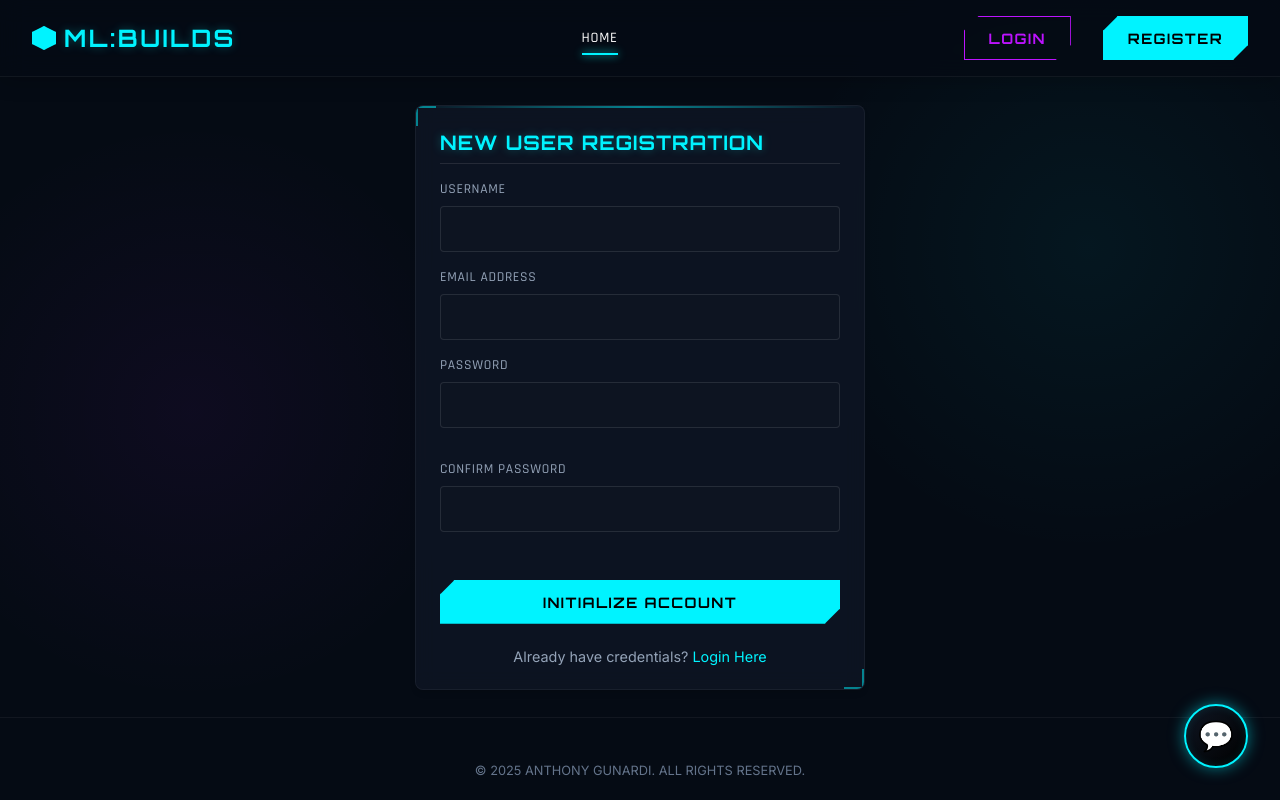
RegisterPage › validates password match
In the field labelled "Username": (640, 228) [440, 206, 840, 252], type "testuser"
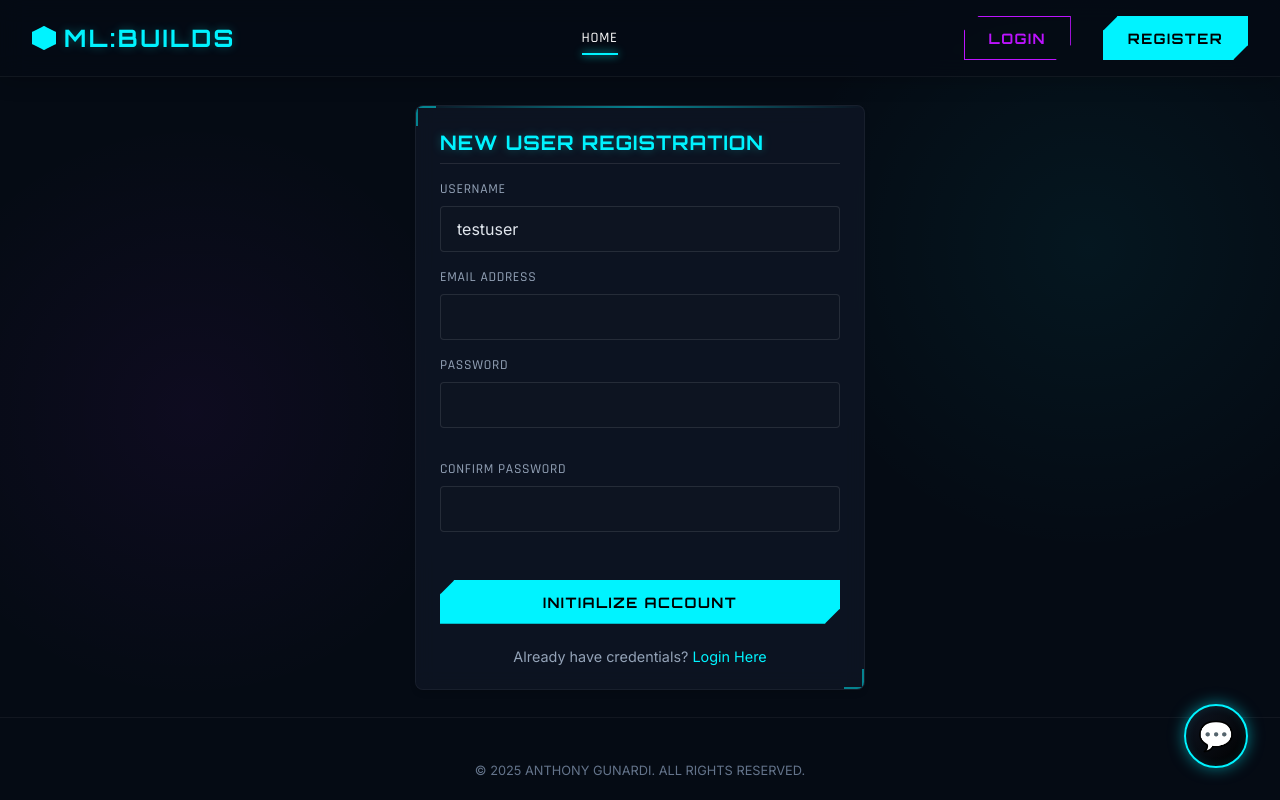
In the field labelled "Email Address": (640, 316) [440, 294, 840, 340], type "test@test.com"
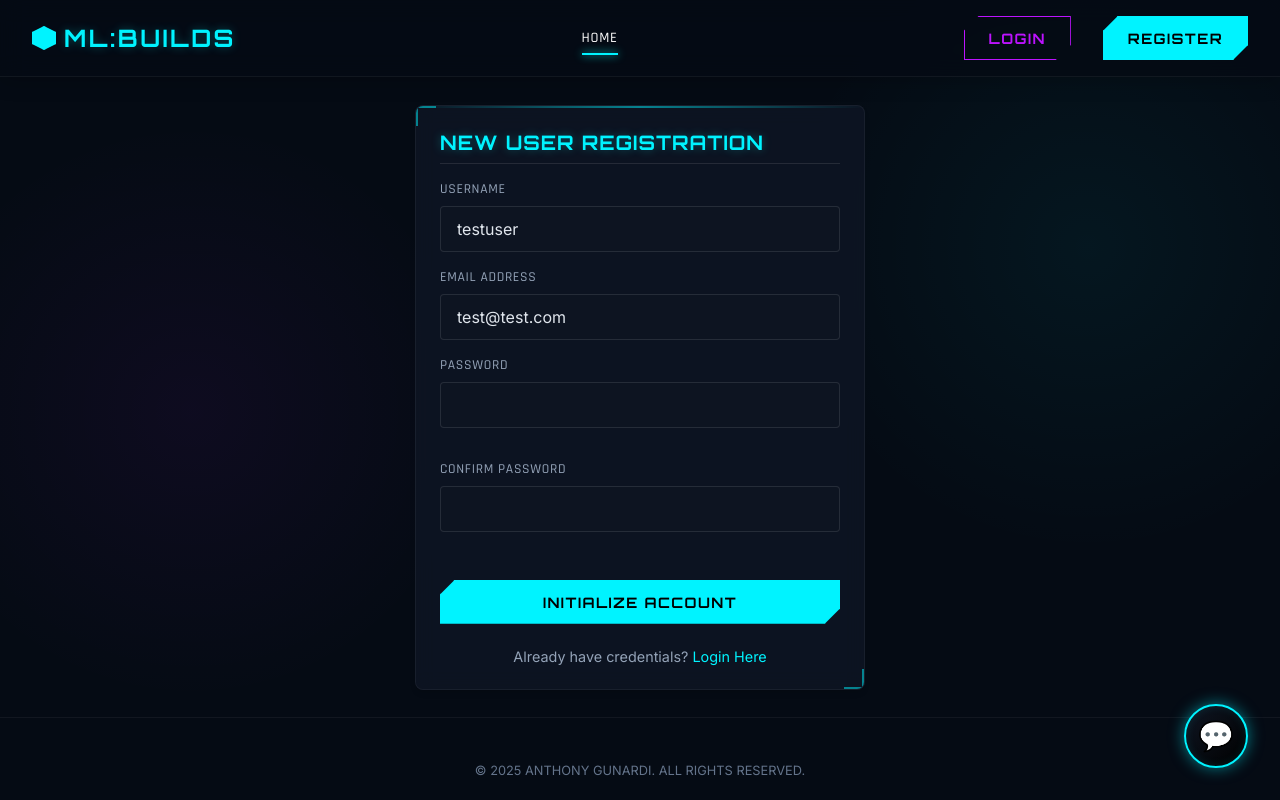
In the password field labelled "Password": (640, 404) [440, 382, 840, 428], type "password123"
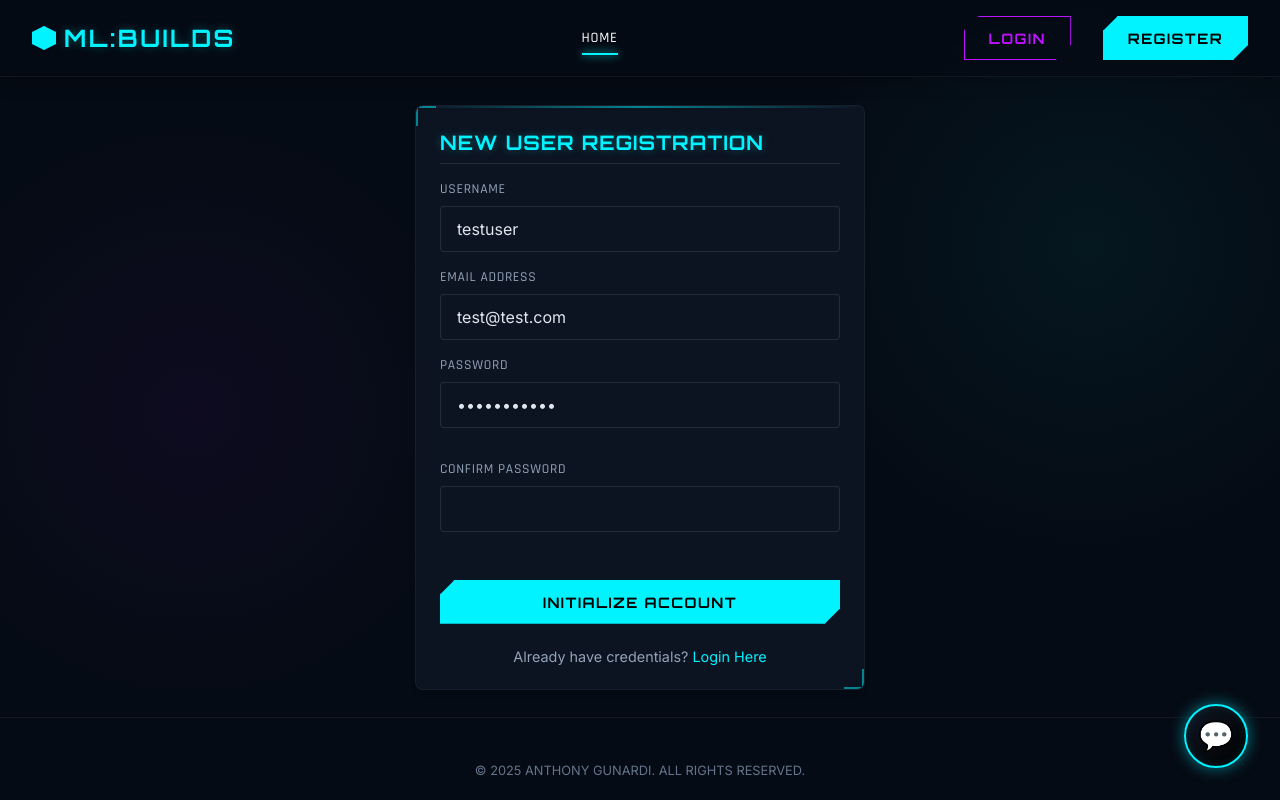
In the password field labelled "Confirm Password": (640, 508) [440, 486, 840, 532], type "mismatch"
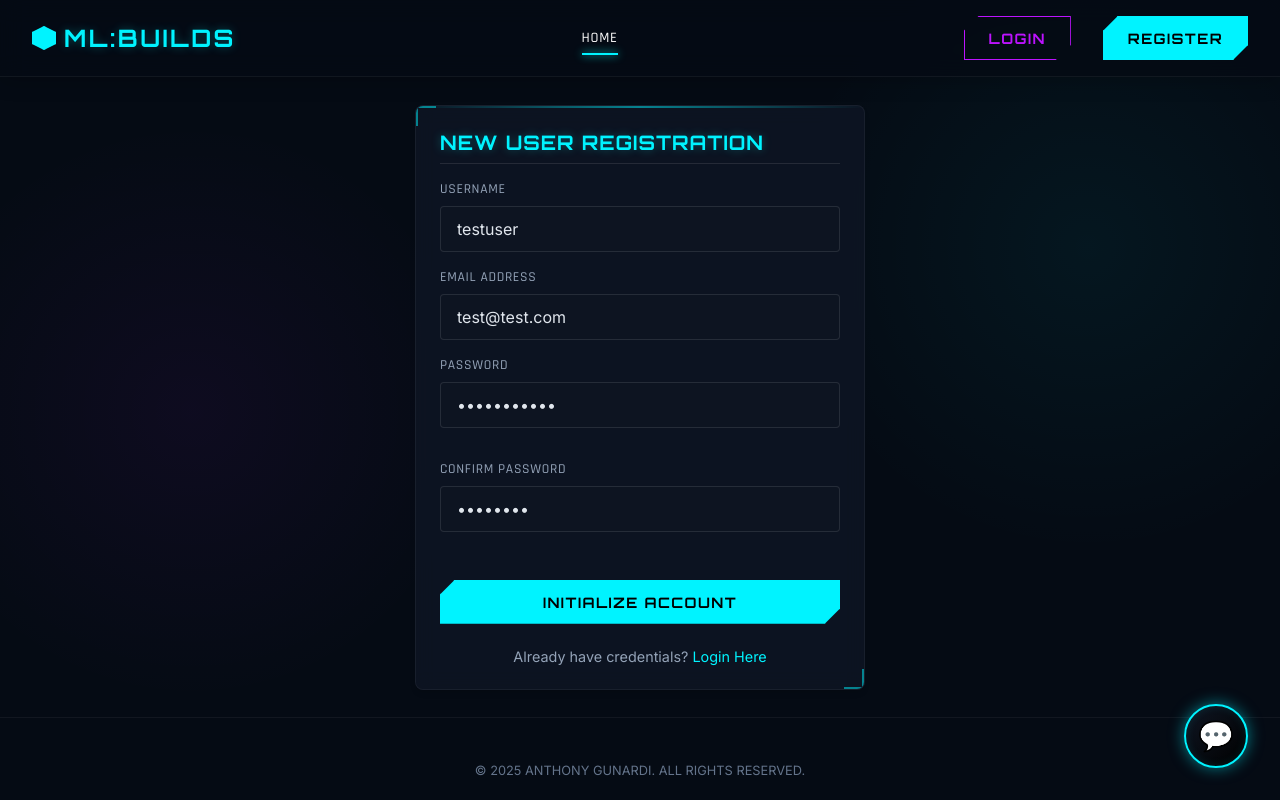
Click the button "Initialize Account": (640, 602) [440, 580, 840, 624]
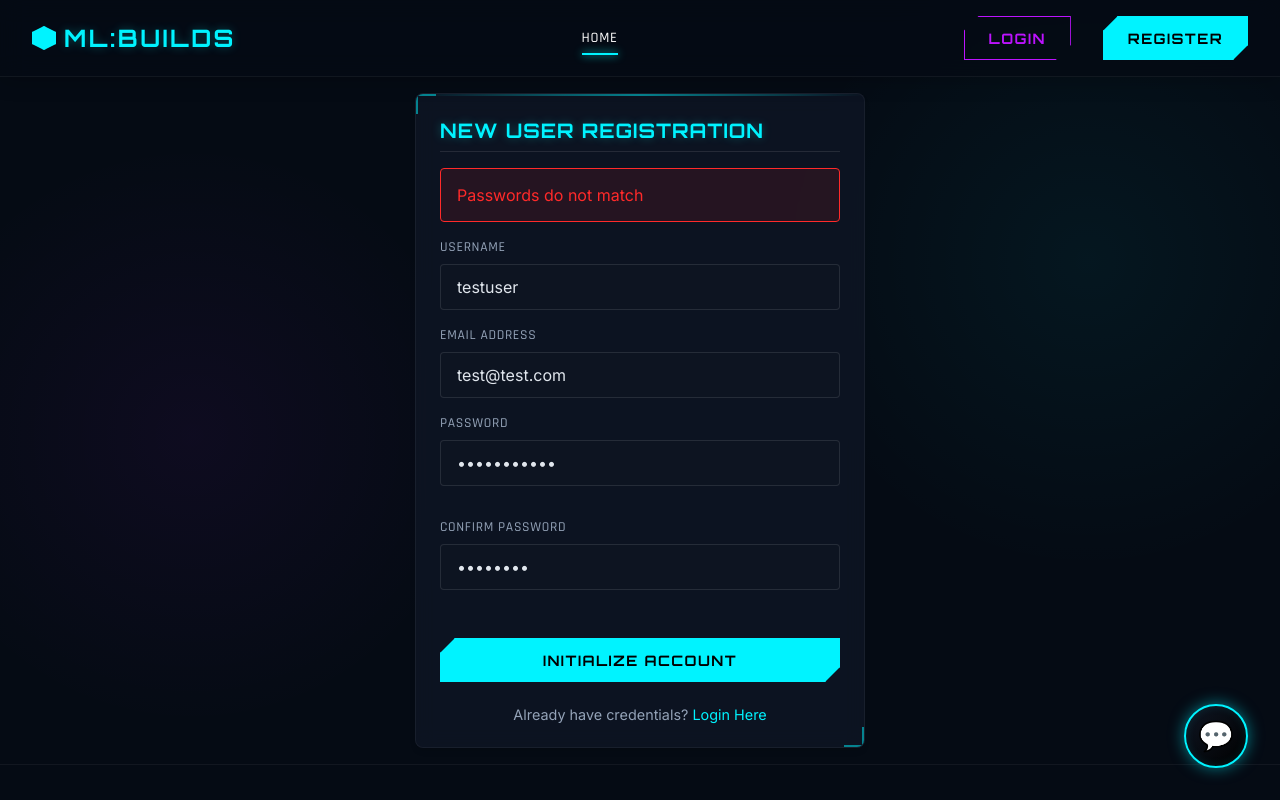
Now the text "Passwords do not match" is shown, box [440, 168, 840, 222]
